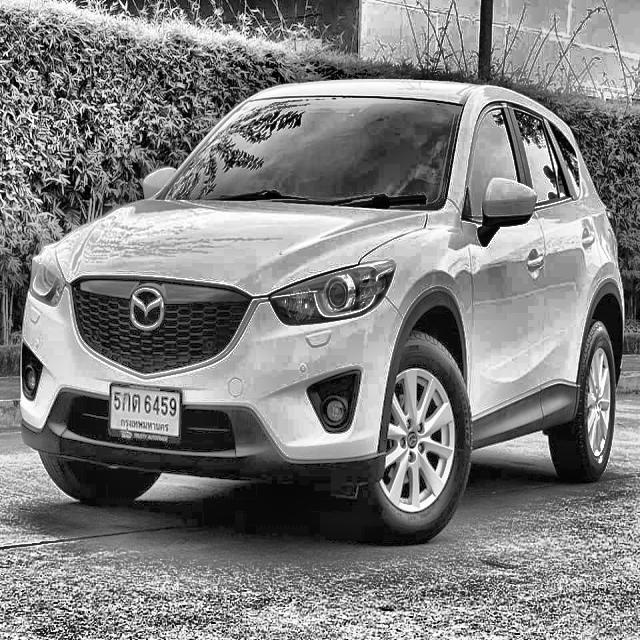license-plate: (108, 379, 184, 446)
